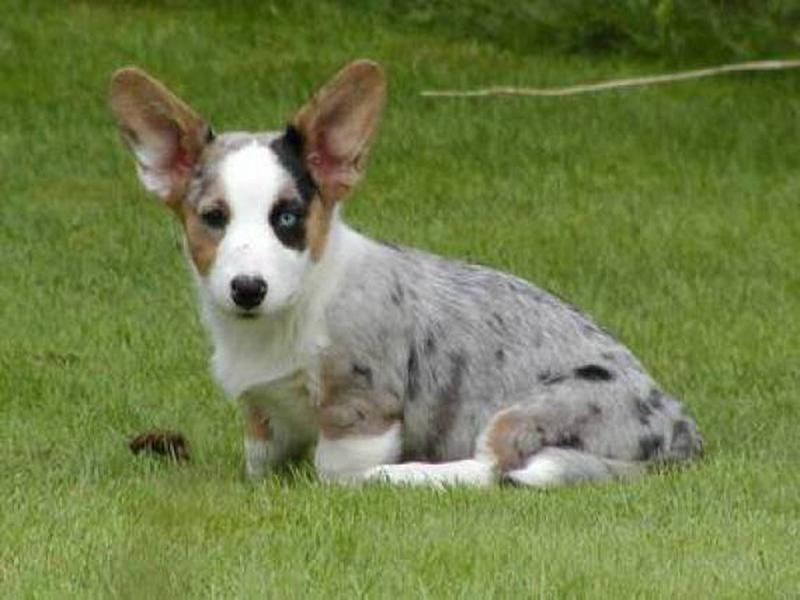corgi: (107, 58, 392, 318)
